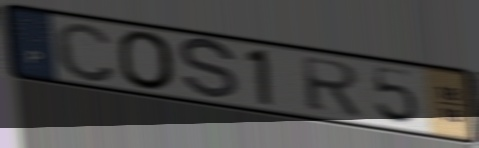1: (242, 47, 276, 108)
5: (370, 64, 423, 127)
C: (51, 20, 119, 85)
O: (115, 29, 179, 92)
R: (297, 54, 365, 119)
S: (177, 37, 241, 103)
